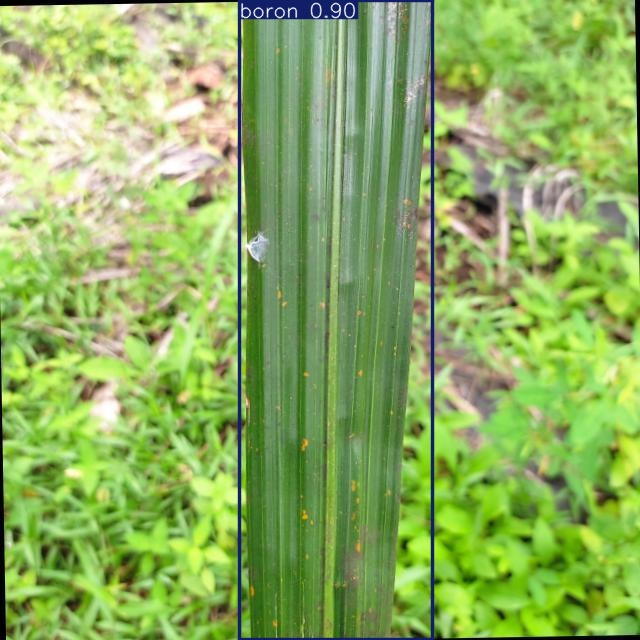nitrogen: (240, 0, 433, 639)
